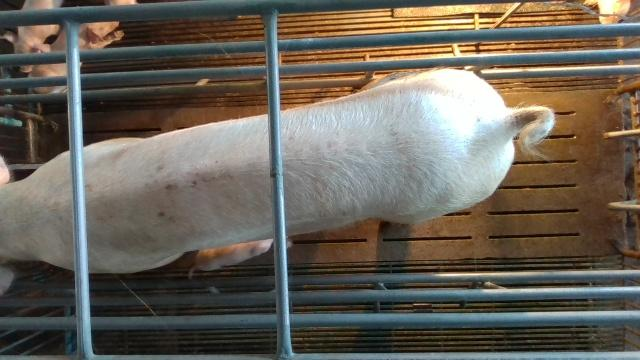piglet: (27, 22, 124, 94), (0, 0, 61, 72), (187, 239, 274, 279), (583, 0, 630, 24)
sow-stand-feed: (1, 68, 555, 296)
